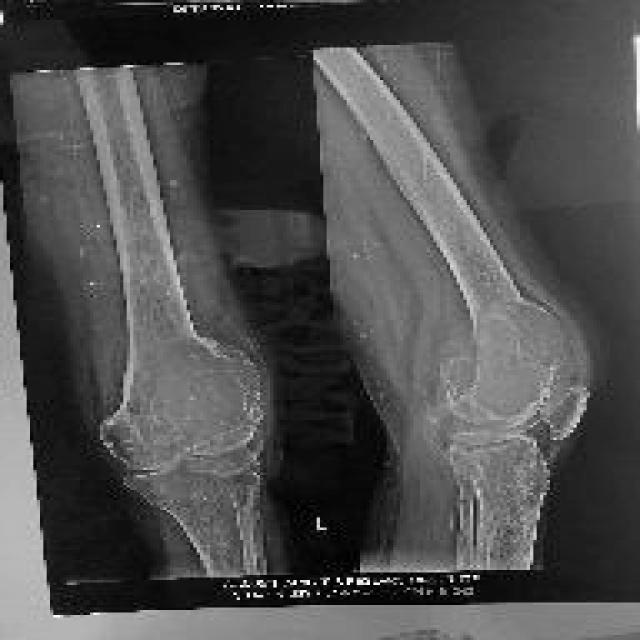bone-cancer: (135, 330, 258, 453), (456, 298, 567, 415)
